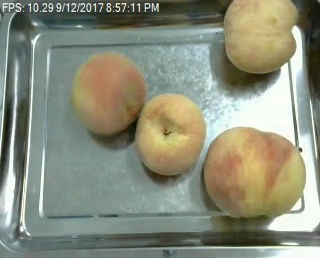Peach: (202, 126, 305, 219), (72, 52, 147, 135), (136, 94, 205, 175), (222, 0, 298, 72)
